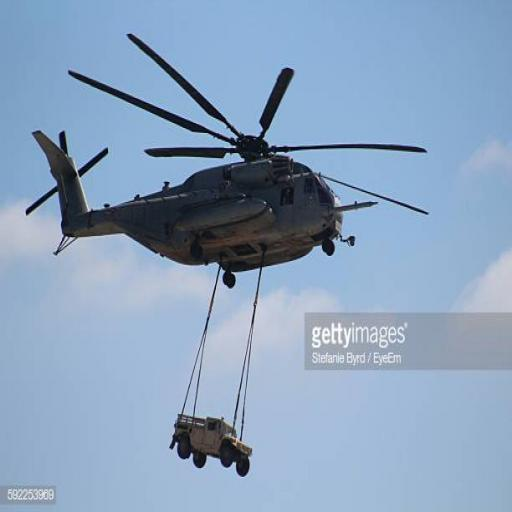helicopter: (18, 39, 441, 297)
